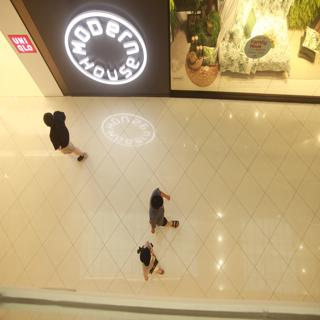person: (33, 102, 89, 164), (138, 175, 185, 237), (132, 240, 168, 286)
